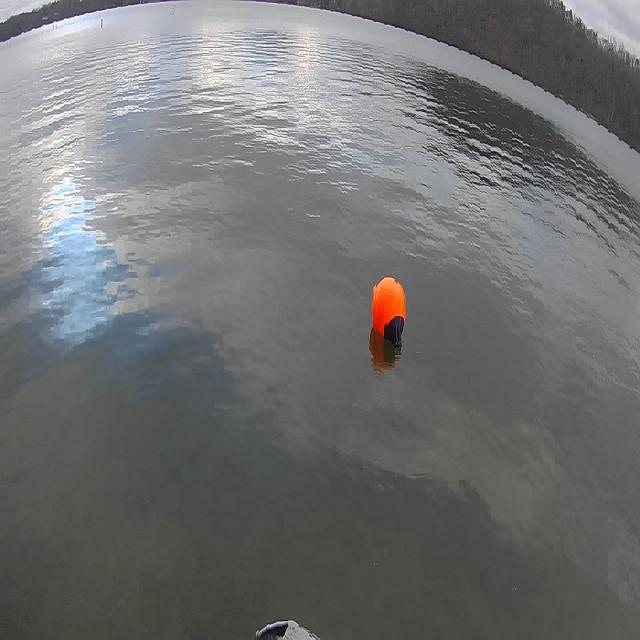Buoy: (358, 258, 417, 368)
